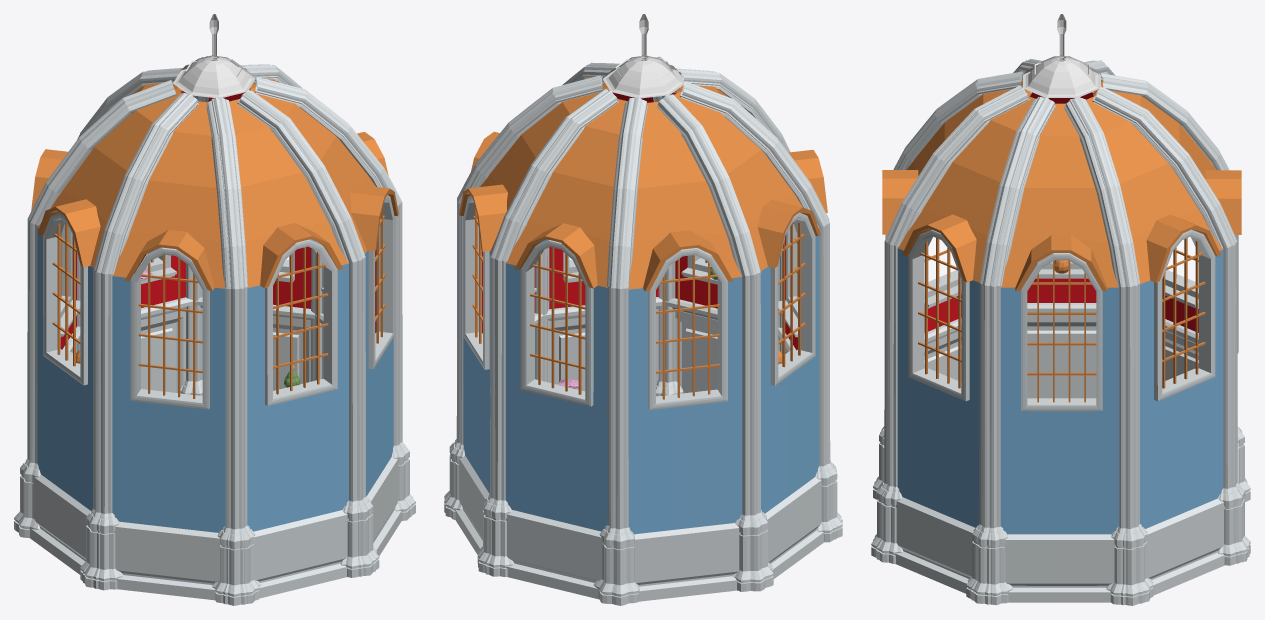
File: smallest church.glb
3 renders of one model, left to right at view 1: azimuth 30°, elevation 25°; view 2: azimuth 150°, elevation 25°; view 3: azimuth 270°, elevation 25°, orthographic.
Visible parts, largest first — view 1: Cylinder.003, Cylinder.006, Cylinder.002; view 2: Cylinder.003, Cylinder.006, Cylinder.002; view 3: Cylinder.003, Cylinder.006, Cylinder.002.
Boxes of the visible parts, bbox=[...] form: Cylinder.003: bbox=[29, 79, 401, 600]; Cylinder.006: bbox=[14, 56, 415, 605]; Cylinder.002: bbox=[173, 55, 255, 97]; Cylinder.003: bbox=[455, 77, 827, 601]; Cylinder.006: bbox=[444, 56, 842, 605]; Cylinder.002: bbox=[603, 55, 684, 98]; Cylinder.003: bbox=[882, 80, 1241, 602]; Cylinder.006: bbox=[871, 59, 1250, 605]; Cylinder.002: bbox=[1023, 56, 1100, 97].
Size of the model in its own units: 2.31 by 3.41 by 2.29.
